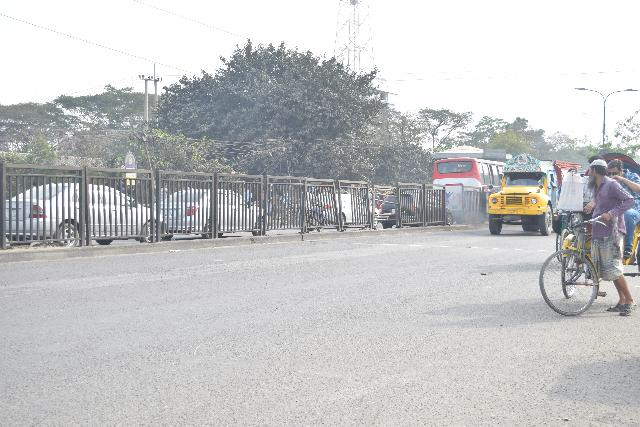bus: (432, 154, 502, 192)
car: (6, 180, 157, 248), (159, 184, 273, 235), (375, 190, 439, 228), (325, 193, 377, 227)
truck: (485, 153, 563, 237)
